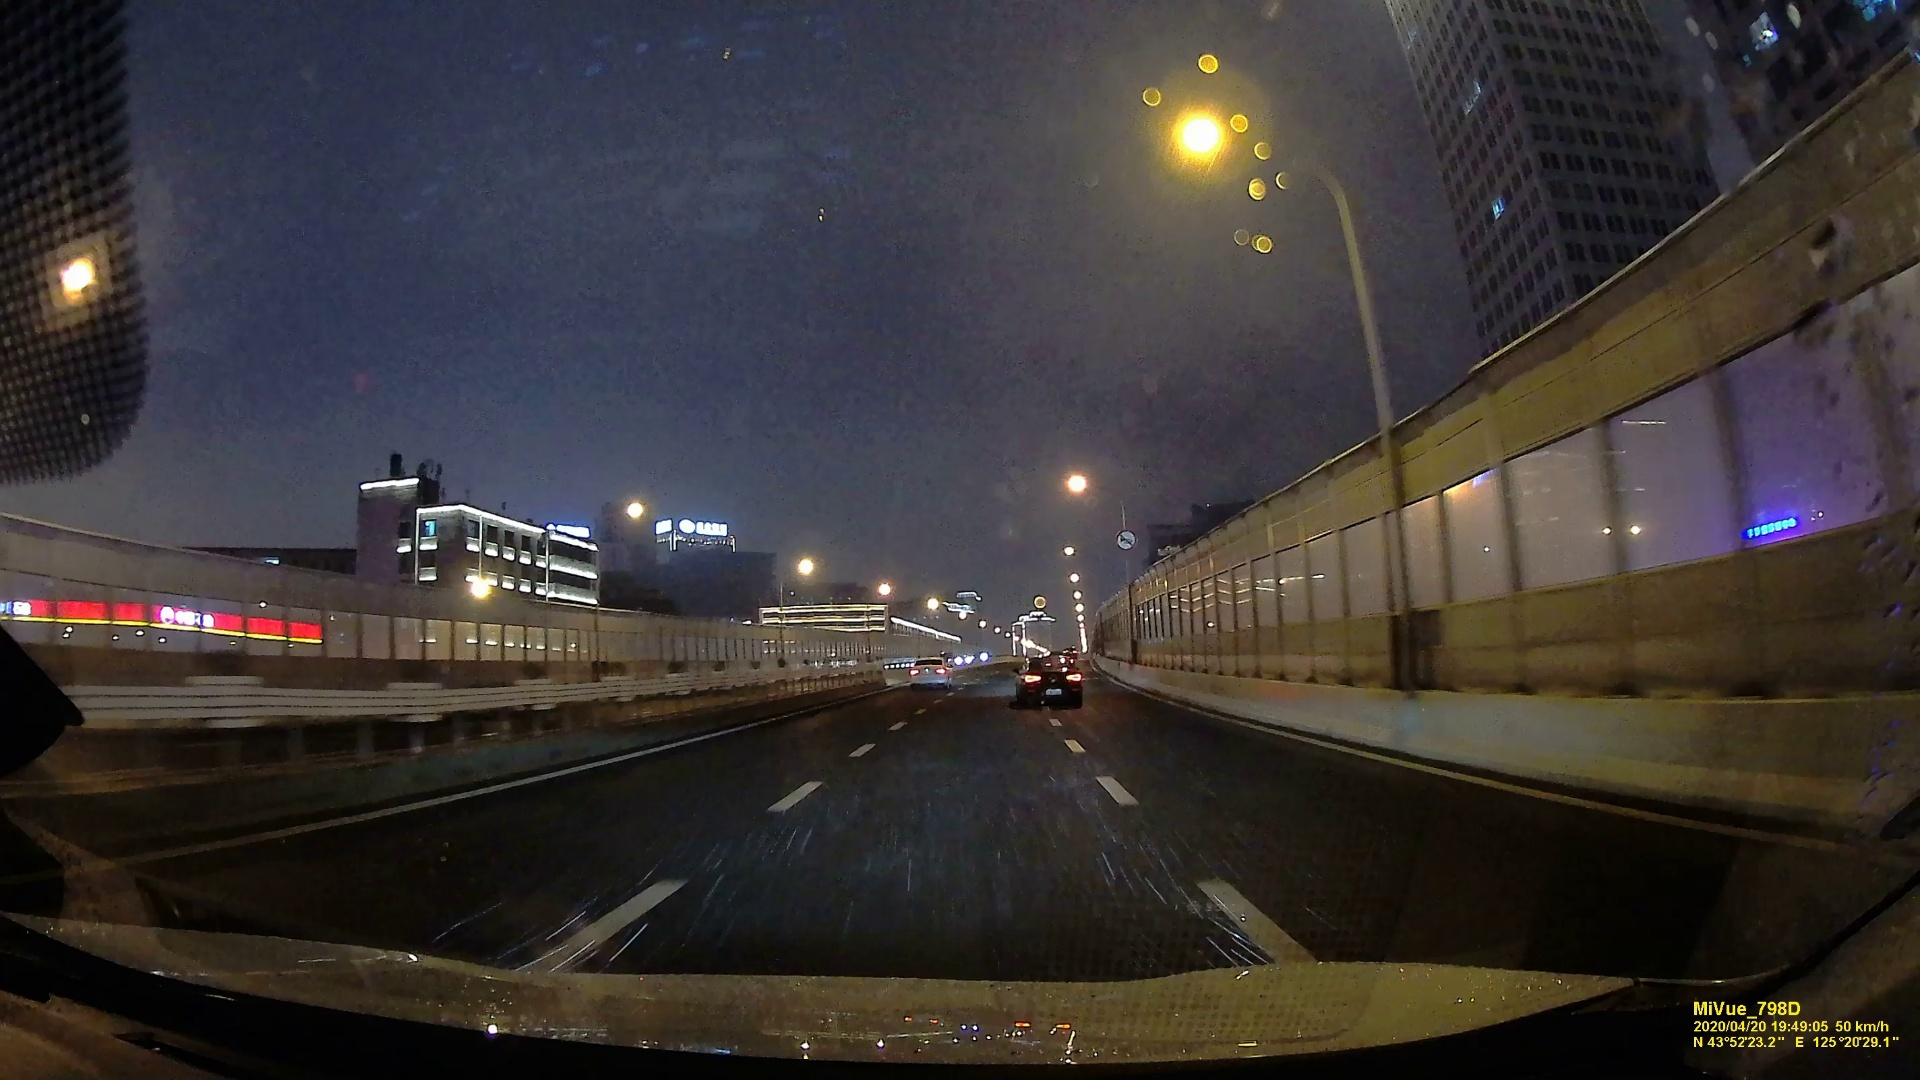traffic_sign: (1114, 527, 1134, 549)
vehicle: (1014, 653, 1087, 707), (909, 655, 953, 690)
